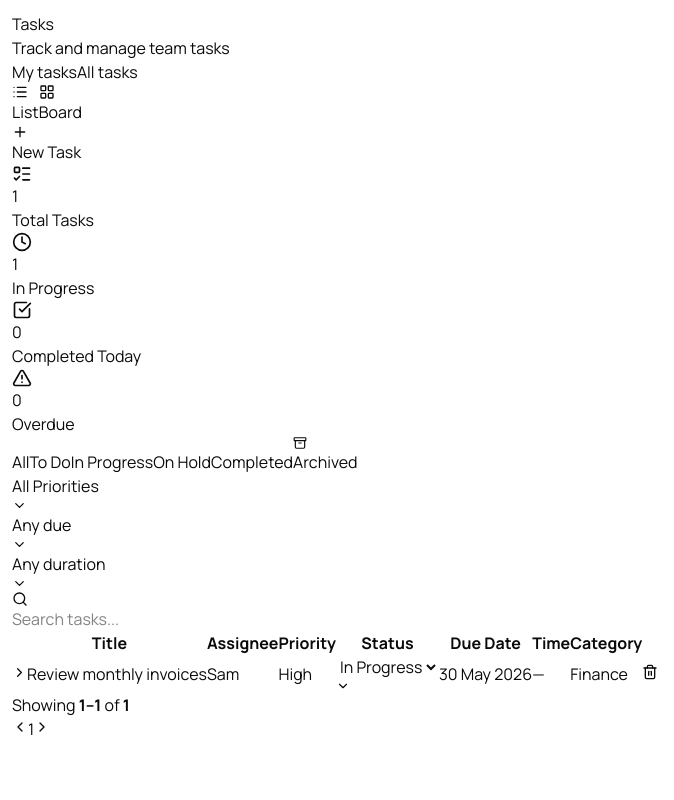
Test: TasksPage — folder view › renders the subtask titles as new rows after the toggle is clicked
Click the button named "show subtasks for review monthly invoices" at [20, 672], box x1=12 y1=665 x2=27 y2=680
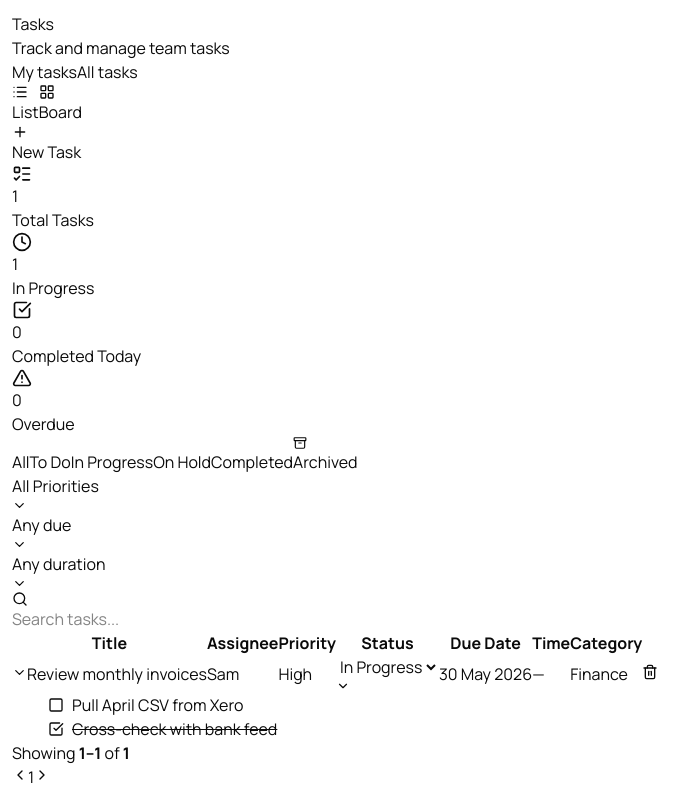
Expected: the text "Pull April CSV from Xero" is shown, x1=72 y1=693 x2=244 y2=717
Expected: the text "Cross-check with bank feed" is shown, x1=72 y1=717 x2=277 y2=741
